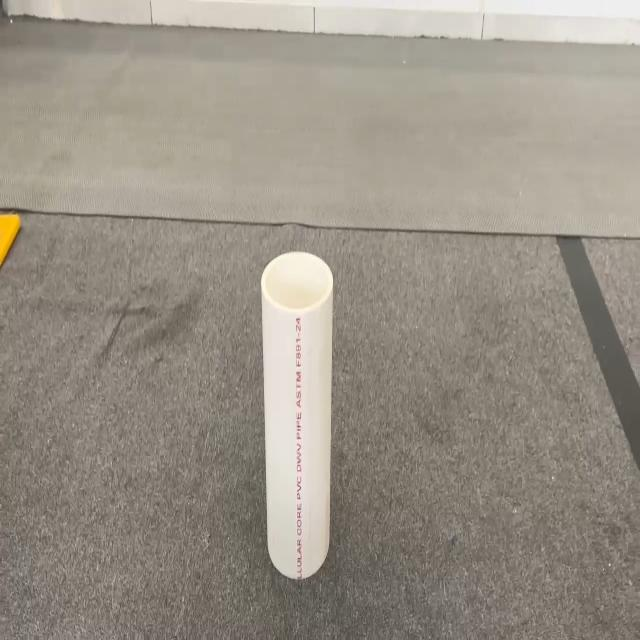coral: (260, 250, 334, 580)
